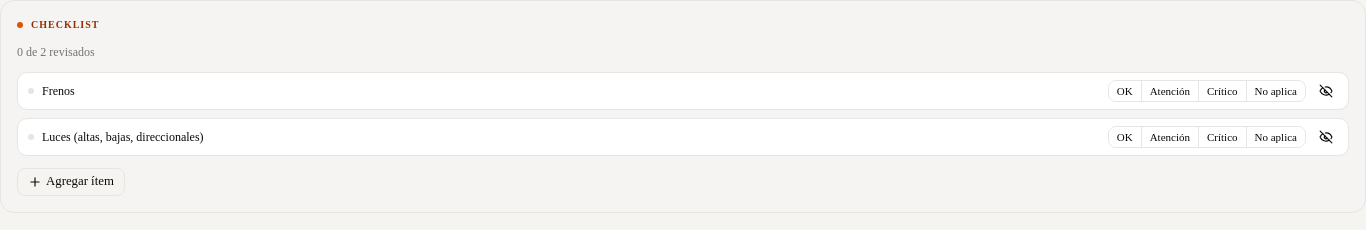
Test: DviChecklistForm › removes a deactivated item from the active rows after toggle succeeds
Expected: the element named "Frenos" is shown, x1=1108 y1=80 x2=1306 y2=102
Expected: the button "Agregar ítem" is shown, x1=17 y1=168 x2=125 y2=196
// Click deactivate
Click the button named "Desactivar Frenos". click: (1326, 91)
box: x1=1314 y1=79 x2=1338 y2=103
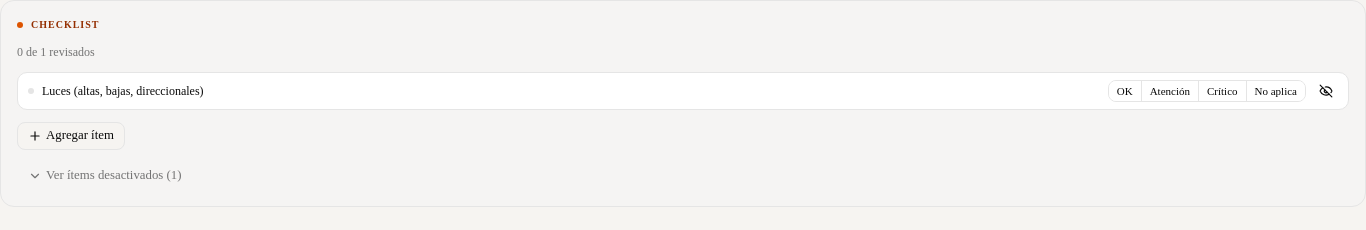
Expected: the element named "Luces (altas, bajas, direccionales)" is shown, x1=1108 y1=80 x2=1306 y2=102
Now the text labelled "Frenos" is gone
